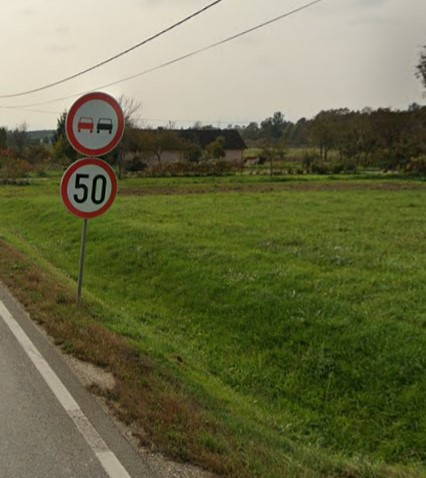Ograničenje brzine 50: (61, 158, 118, 218)
Zabrana pretjecanja: (65, 91, 125, 157)
